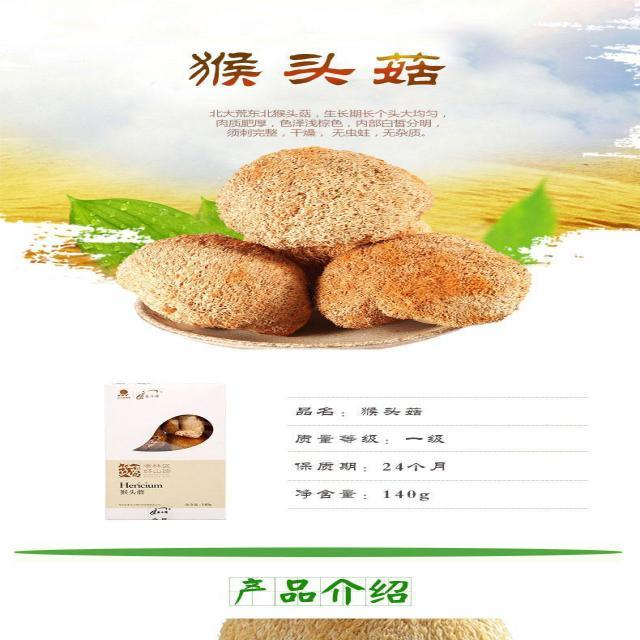Hericium erinaceus: (221, 145, 438, 250), (112, 236, 305, 336), (312, 237, 532, 324)
